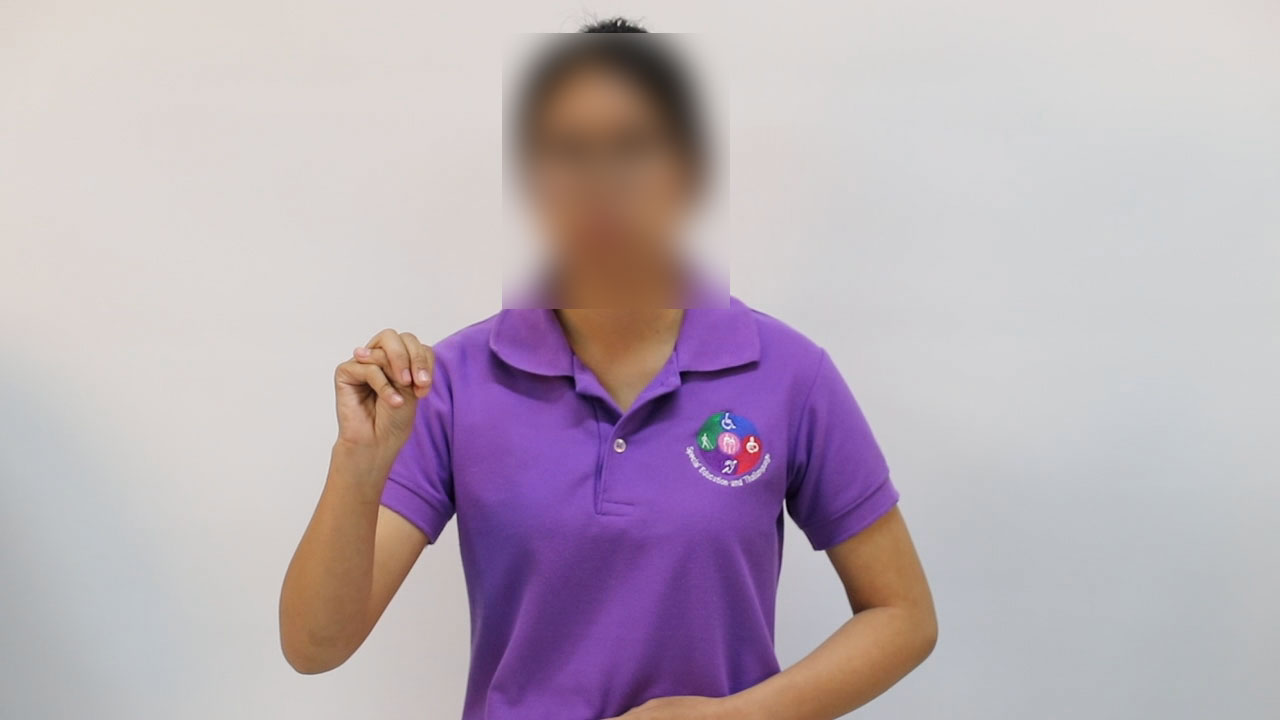mor: (330, 323, 446, 465)
